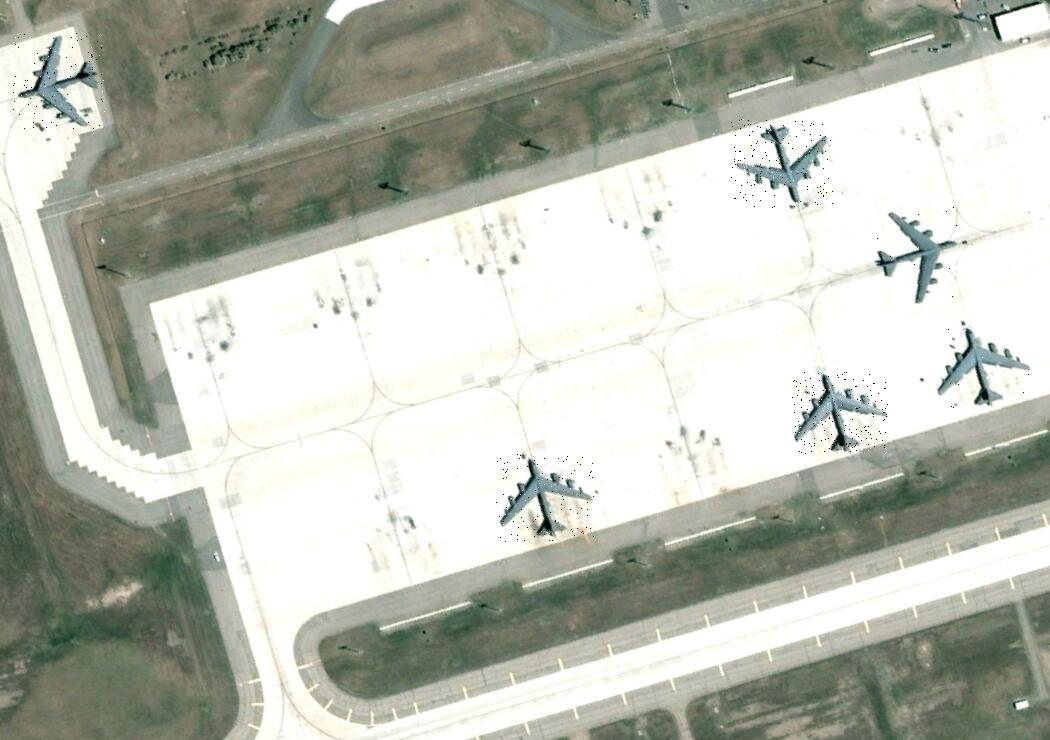A8: (731, 119, 834, 208), (869, 207, 959, 308), (12, 32, 105, 129), (495, 453, 595, 542), (931, 325, 1034, 409), (791, 372, 888, 454)
